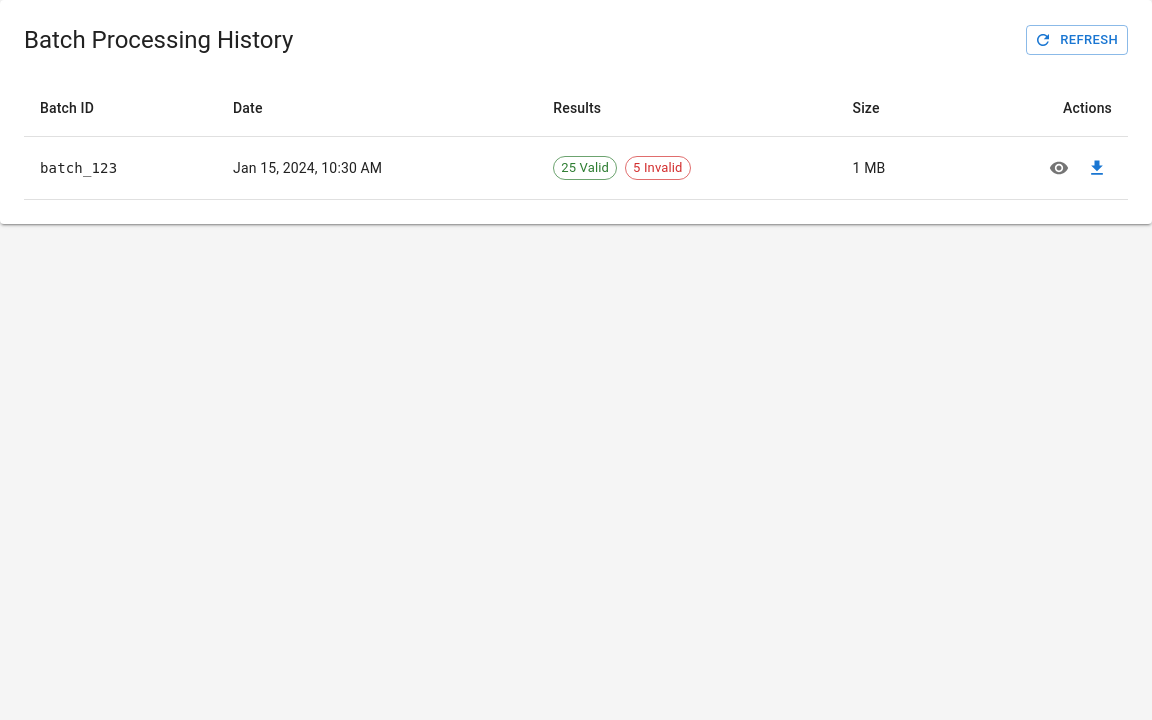
Test: BatchHistory Component › opens and closes preview dialog
Click the button named "Preview Results": (1059, 168) [1044, 153, 1074, 183]
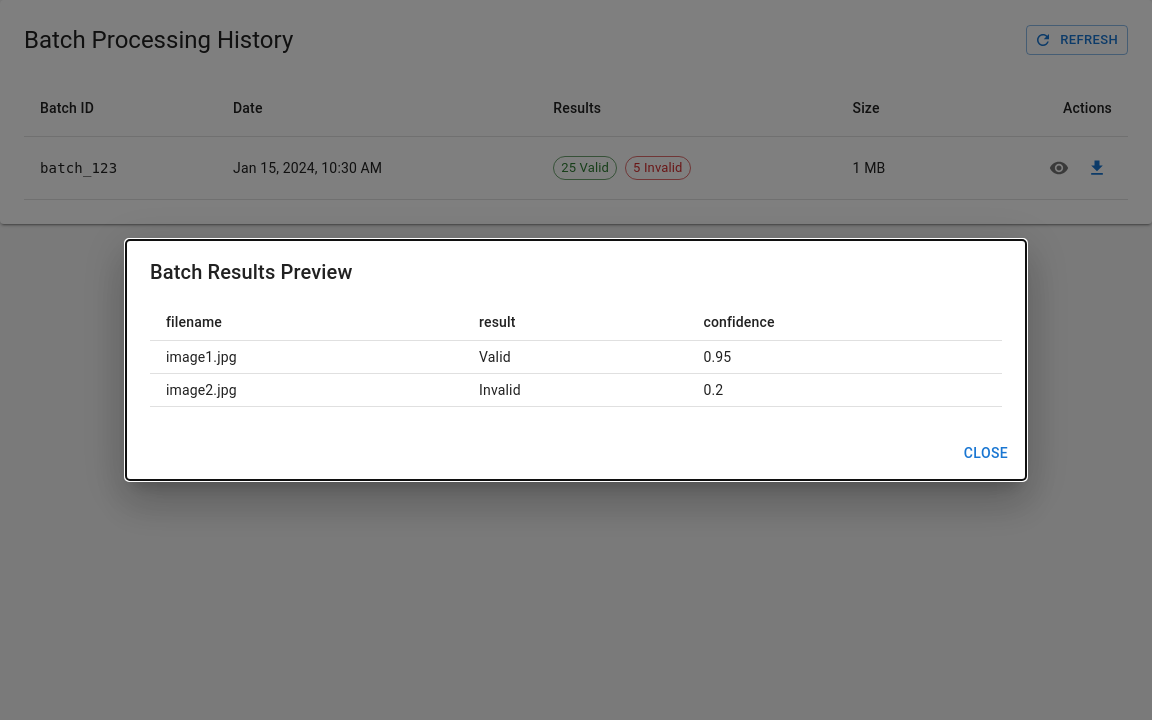
expect the heading "Batch Results Preview" is shown: met, box [150, 260, 352, 284]
expect the text "image1.jpg" is shown: met, box [150, 341, 463, 374]
expect the text "Valid" is shown: met, box [463, 341, 687, 374]
# Close dialog
Click the button "Close": (986, 454) [954, 435, 1018, 472]
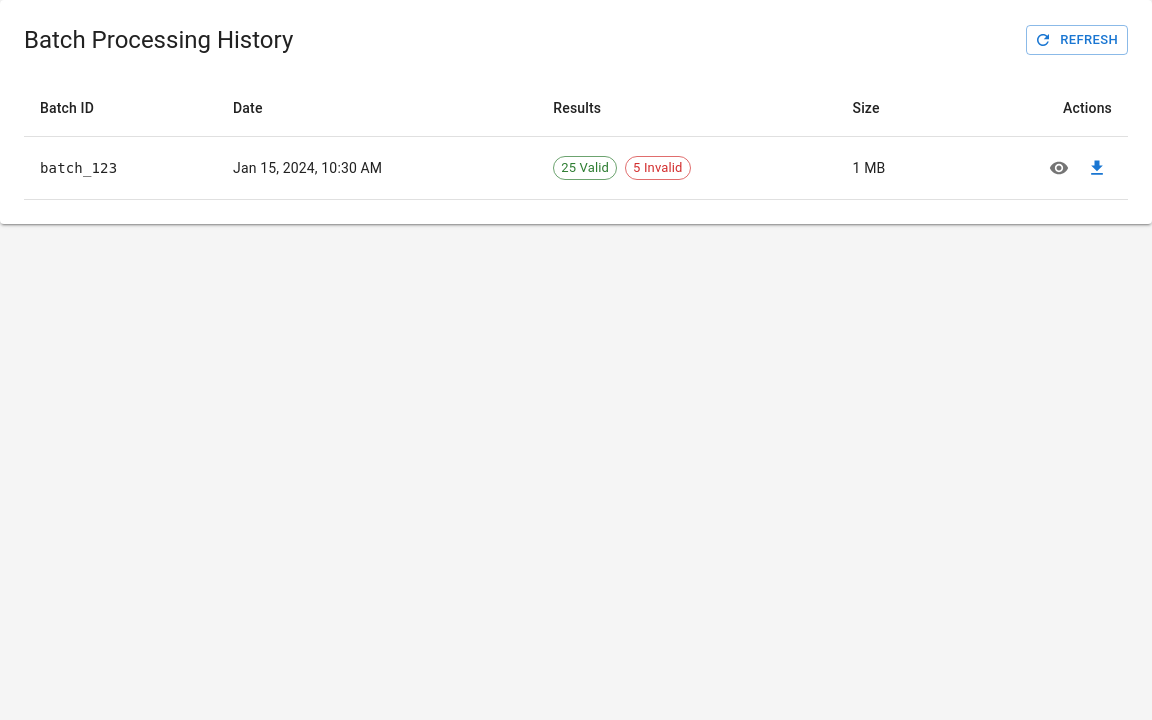
expect the heading "Batch Results Preview" is gone: met
